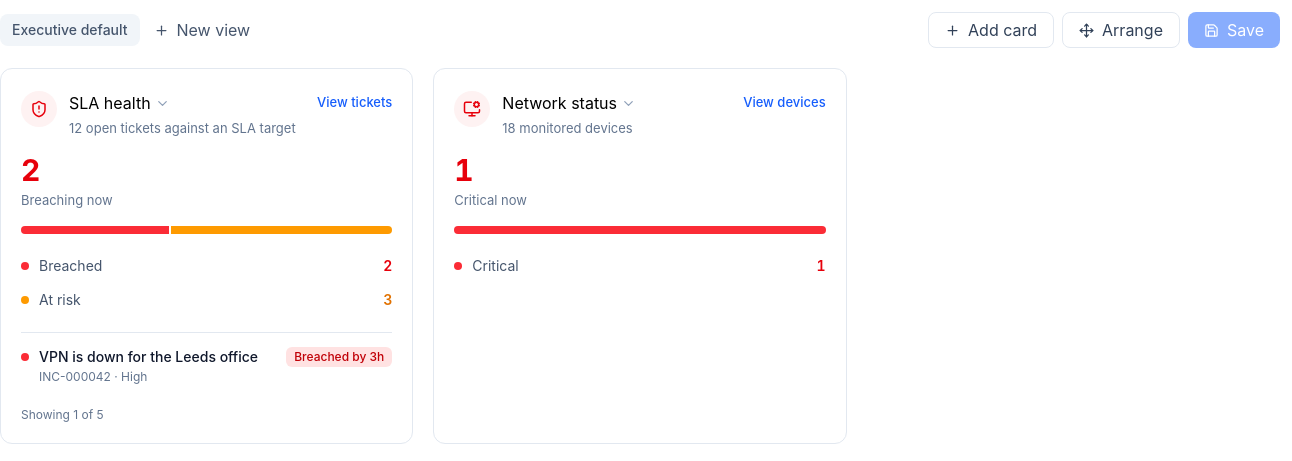
Test: DashboardPage › views › offers to add a card that is not on the board, and puts it on the end
Click the button "Add card" at (991, 30), box [928,12,1054,48]
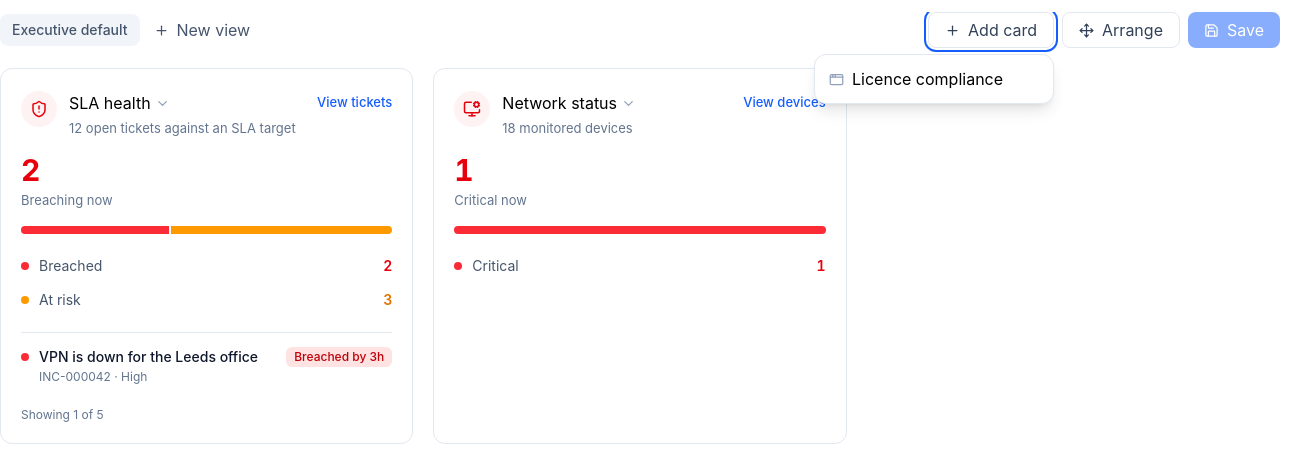
Click the menu item "Licence compliance" at (934, 79), box [821,61,1047,97]
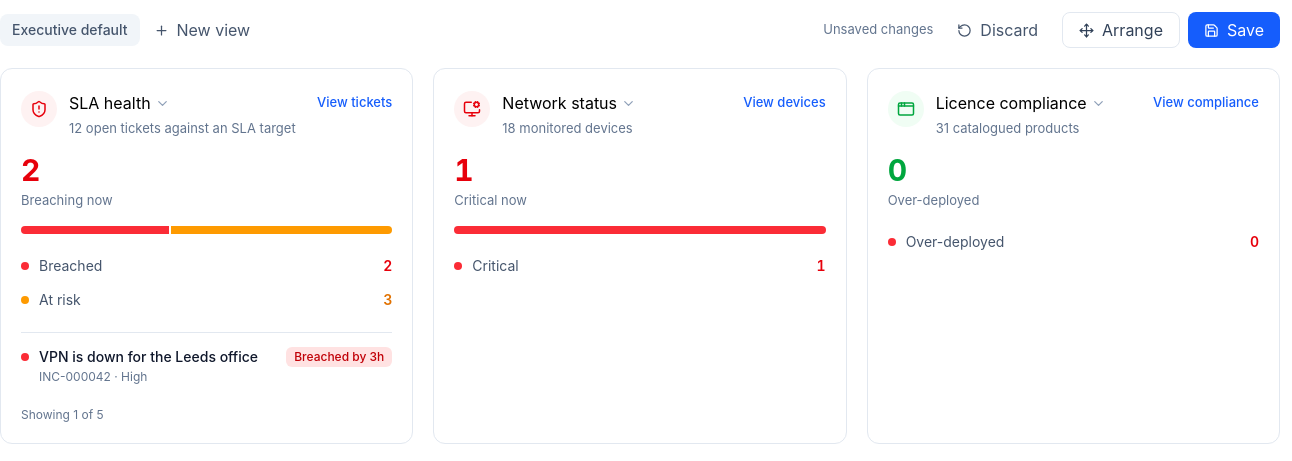
Expected: the text "Unsaved changes" is shown, [823,20,933,40]
